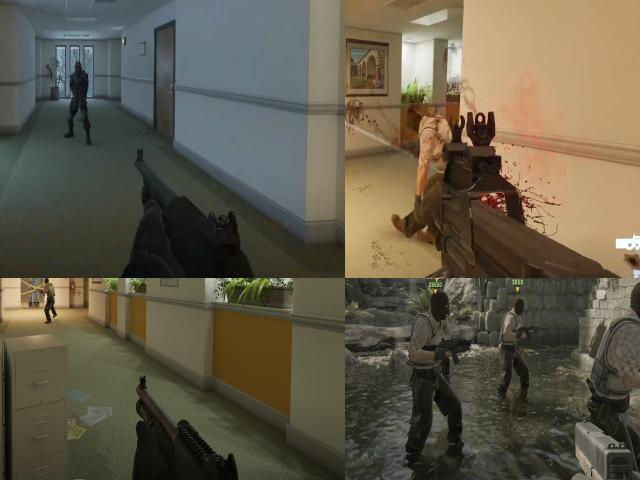CT: (64, 60, 96, 139)
CT-Head: (71, 59, 87, 79)
Dead: (402, 98, 448, 227)
T: (585, 278, 640, 478), (410, 292, 461, 457), (500, 295, 531, 416), (44, 278, 55, 320)
T-Head: (429, 288, 450, 320), (629, 278, 640, 324), (511, 296, 526, 316), (44, 278, 49, 284)
